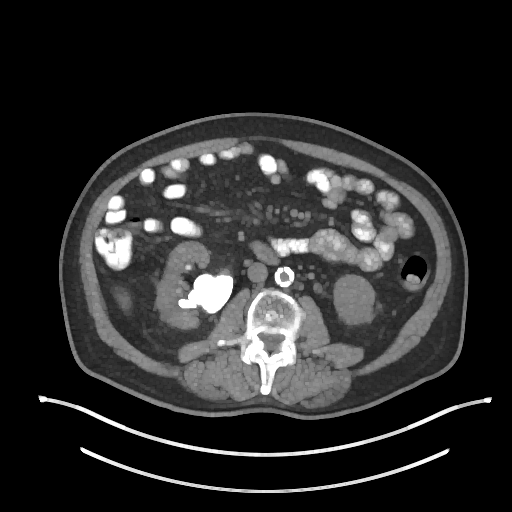Lesion: (174, 272, 236, 315)
